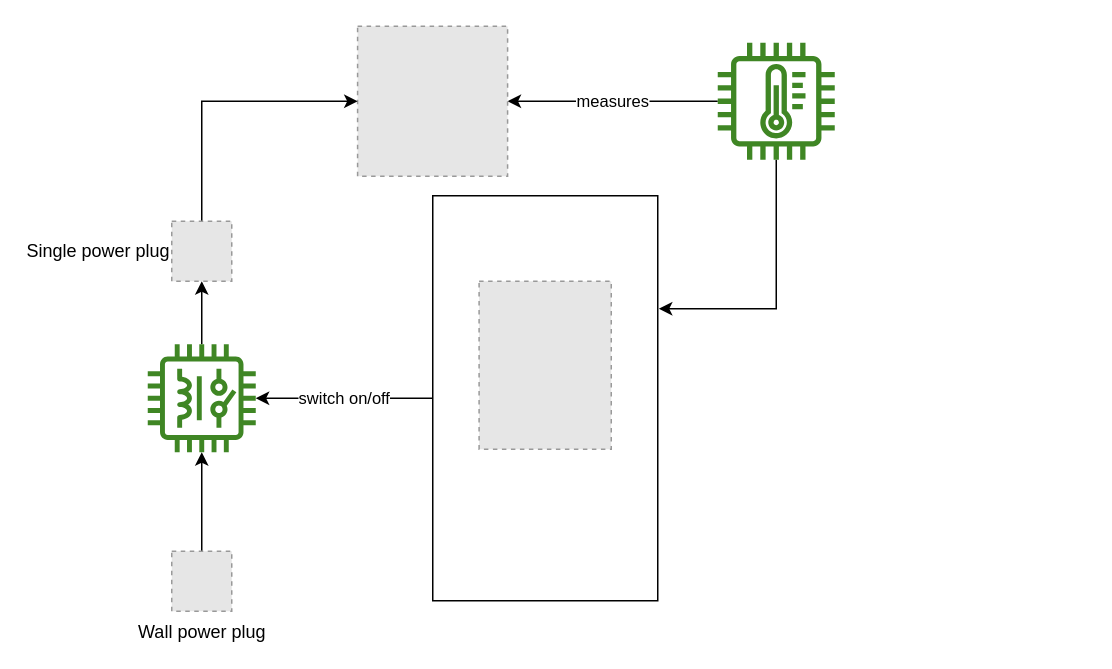
Image size: 1112x669. Some labels were removed from this diagram. Grey dashed boxes stand in for pictures. The box of each missing label's shape, as (x1, y1, x2, y2) in pixels:
Relay: (147, 344, 255, 452)
Waterproof temperature sensor: (717, 42, 834, 159)
